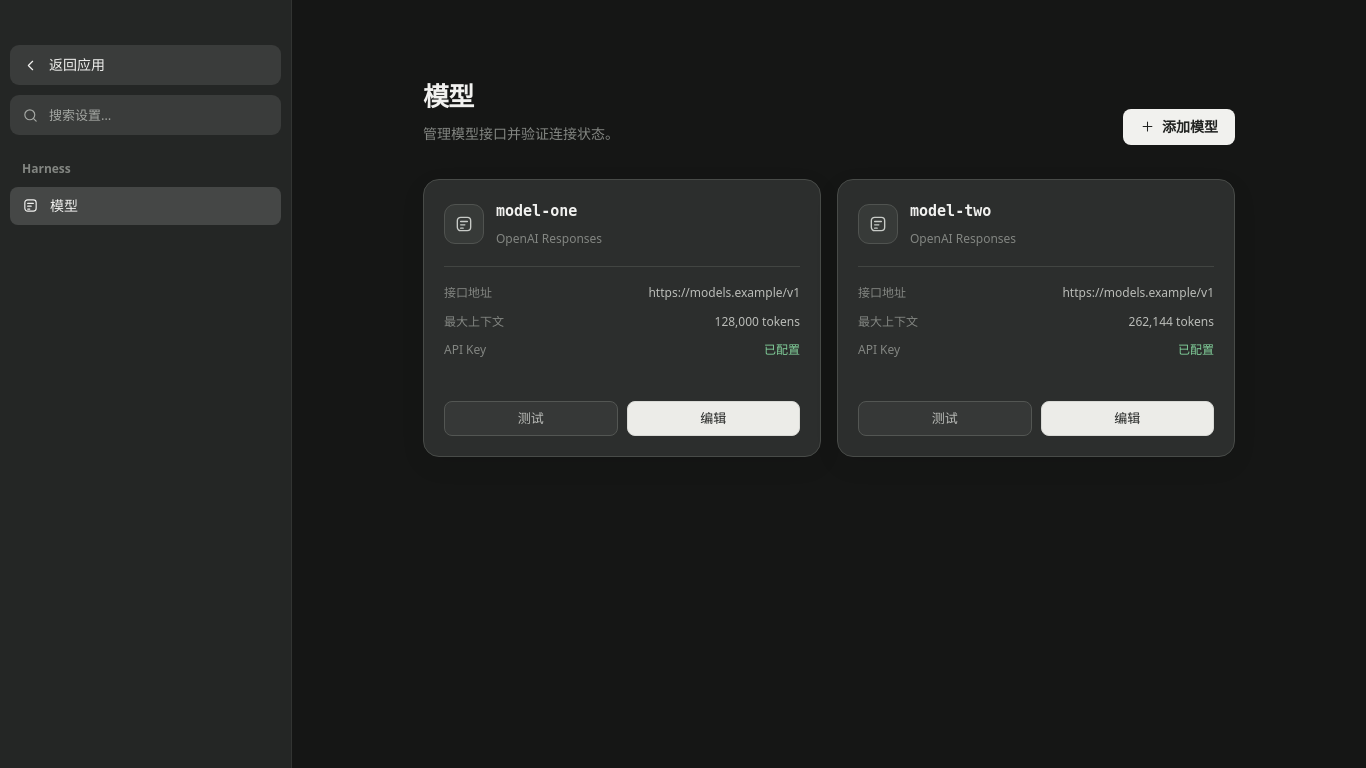
Test case: SimpleModelSettings › shows one card per model, tests a card, and opens its editor
The width and height of the screenshot is (1366, 768).
Expected: the heading "model-one" is shown, [496,202,577,220]
Expected: the heading "model-two" is shown, [910,202,991,220]
Click the button "测试" below "128,000". click: (531, 418)
box: [444,401,618,436]
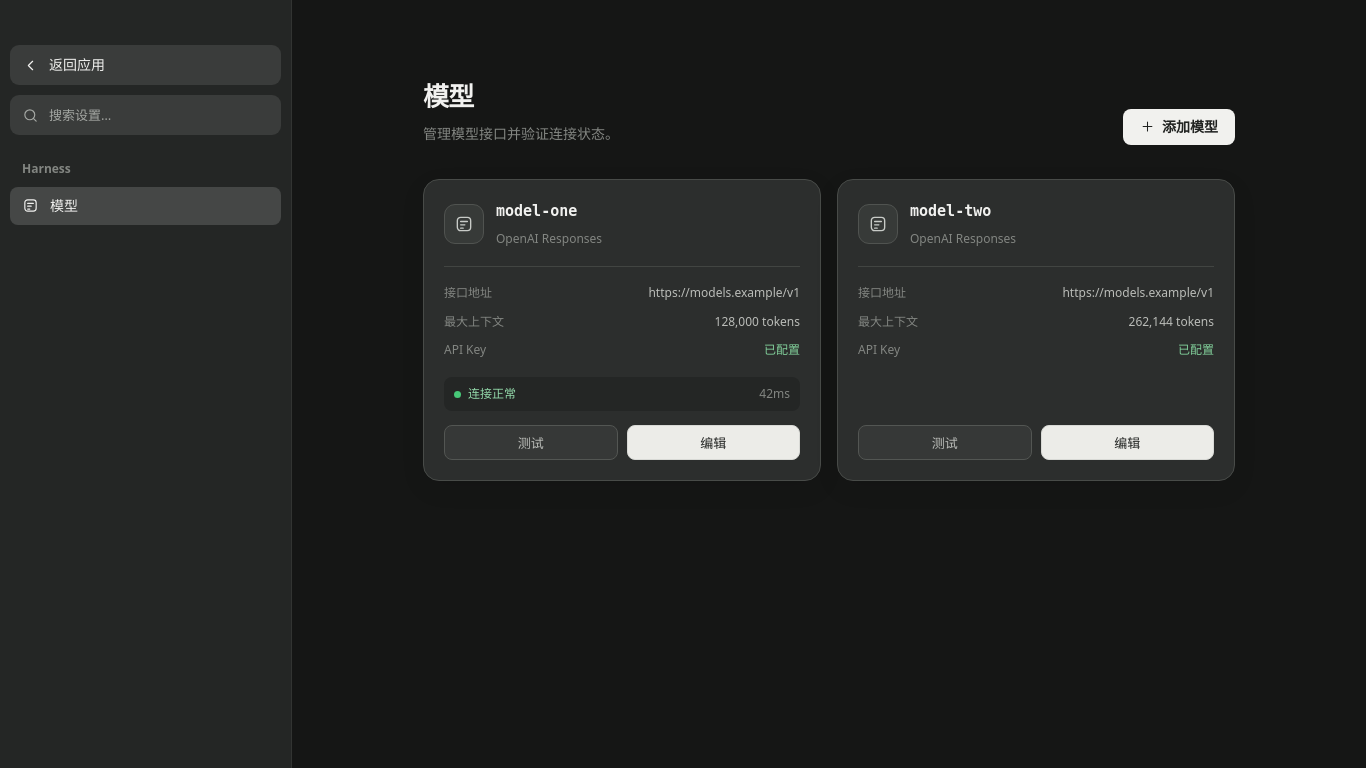
Result: the text "连接正常" is shown at [468,385,516,402]
Result: the text "42ms" is shown at [759,385,790,403]
Click the button "编辑" below "连接正常". click: (713, 443)
box: [626,425,800,460]
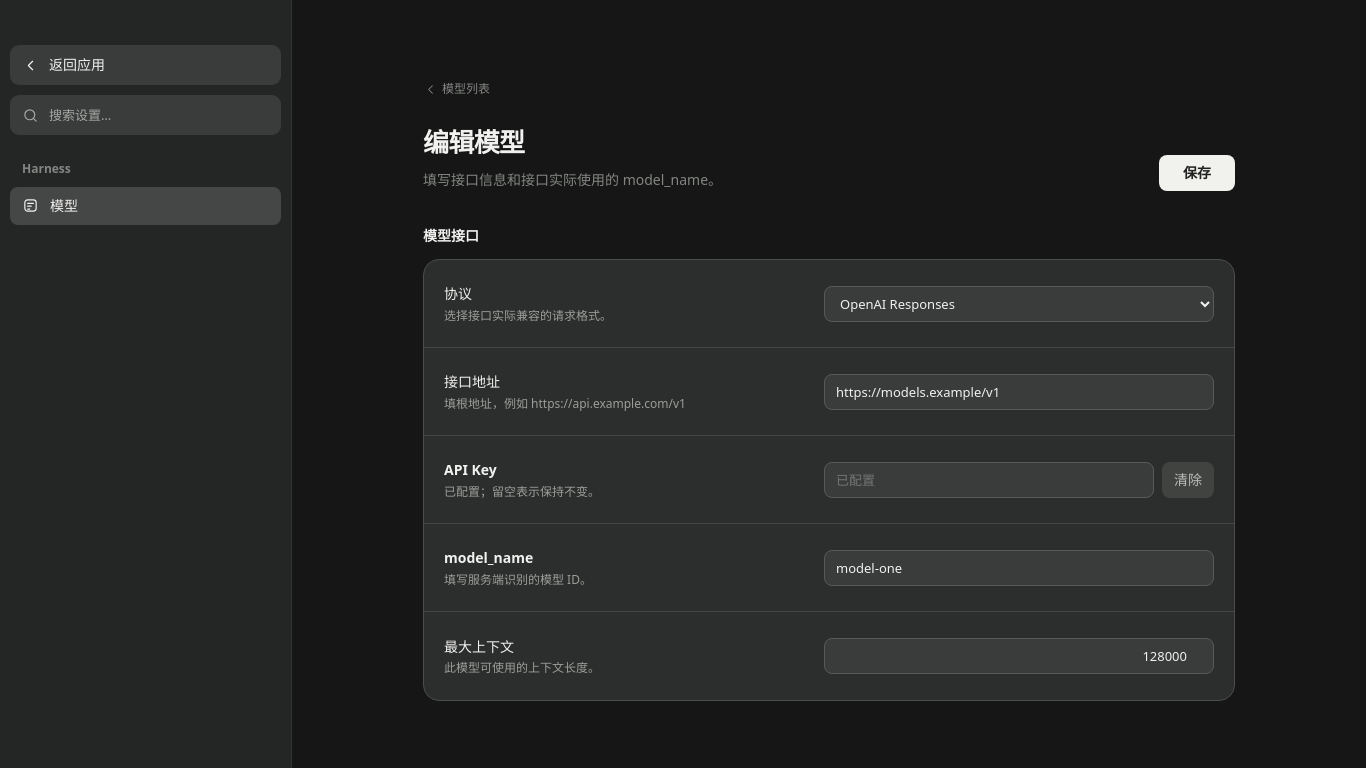
Result: the heading "编辑模型" is shown at [423,124,524,160]
Result: the field showing "model-one" holds "model-one" at [824,550,1214,586]
